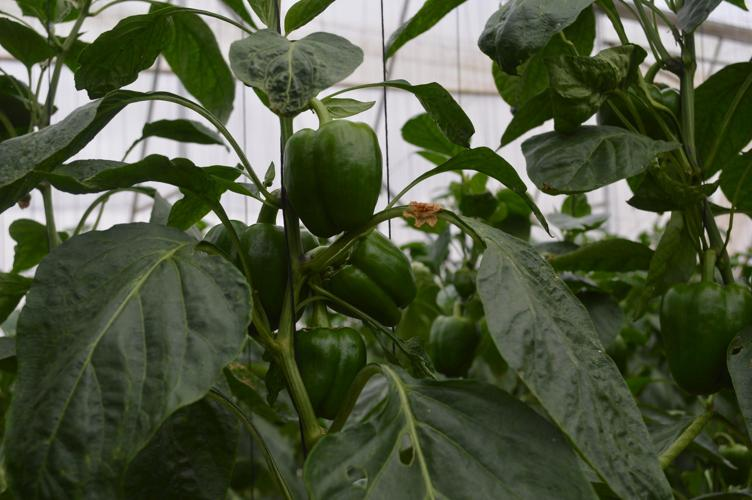BellPepper: (648, 256, 751, 397), (275, 116, 387, 223), (203, 214, 293, 339), (283, 326, 378, 435), (325, 225, 406, 323), (420, 308, 489, 380)
